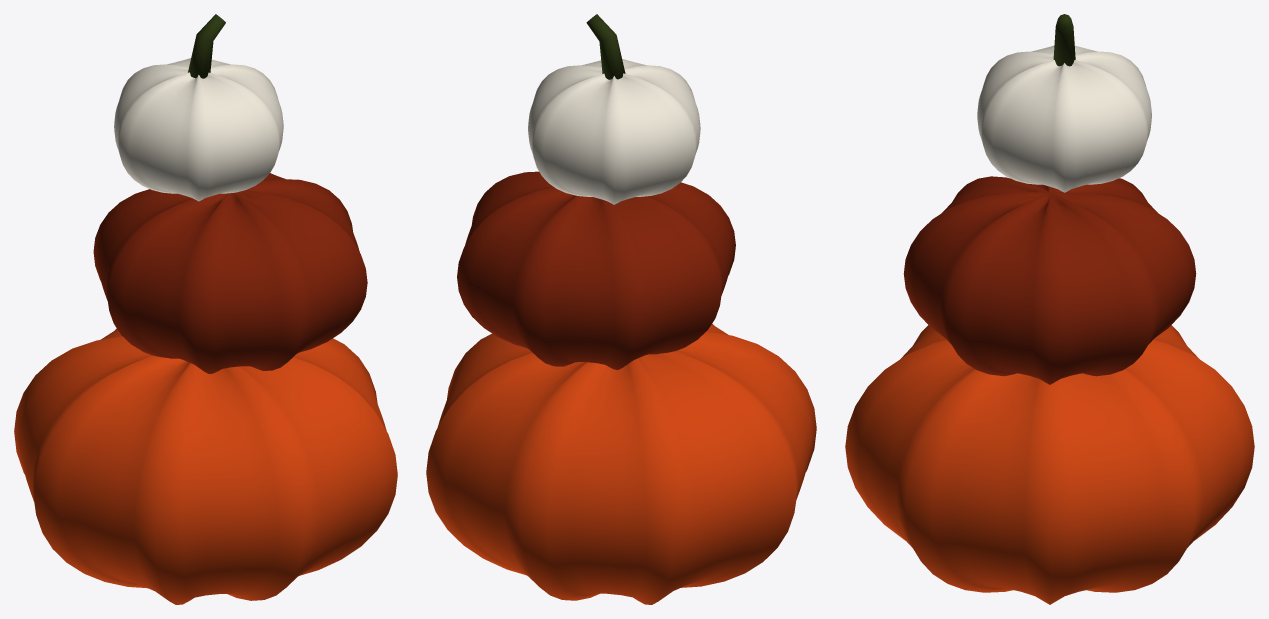
File: pumpkin_stack.obj
The picture shows the model from 3 angles, left to right: view 1: azimuth 30°, elevation 25°; view 2: azimuth 150°, elevation 25°; view 3: azimuth 270°, elevation 25°; orthographic projection. The views are drawn at different scales.
Visible parts, largest first — view 1: LH_pumpkin_stack; view 2: LH_pumpkin_stack; view 3: LH_pumpkin_stack.
Boxes of the visible parts, left/top/right/bottom form: LH_pumpkin_stack: left=14, top=14, right=397, bottom=604; LH_pumpkin_stack: left=426, top=14, right=816, bottom=604; LH_pumpkin_stack: left=845, top=14, right=1254, bottom=604.
Bounding box in the file's own units: 0.28 × 0.4335 × 0.28.
